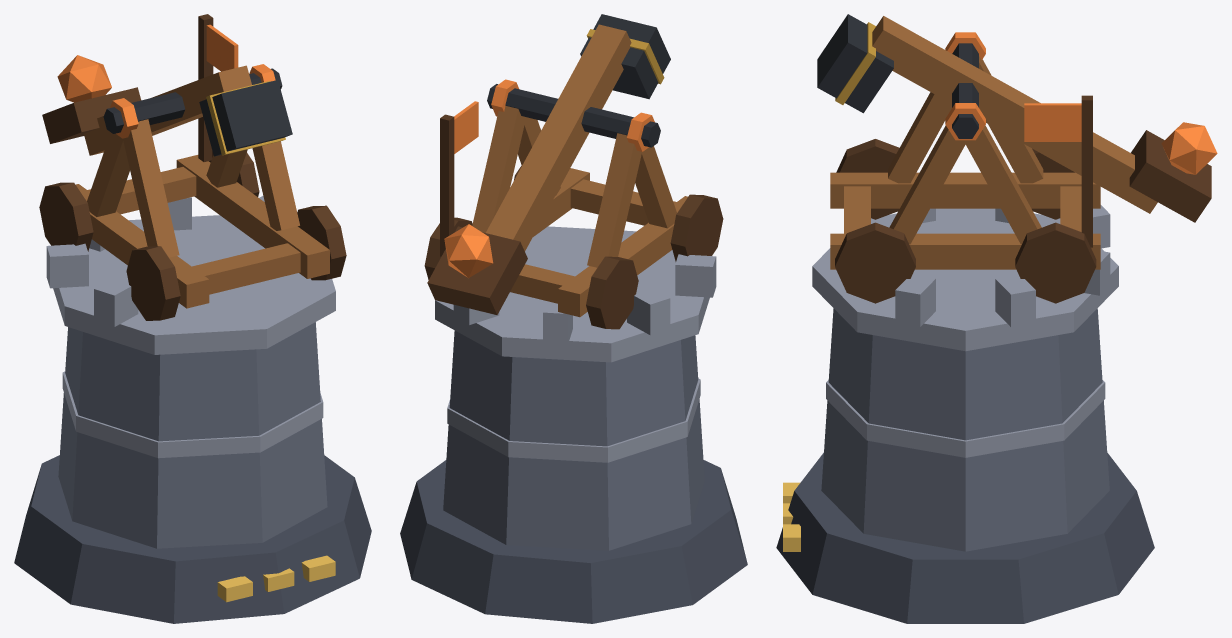
Rendered from catapult-2.glb.
3 views of the same model, side by side, from view 1: azimuth 30°, elevation 25°; view 2: azimuth 150°, elevation 25°; view 3: azimuth 270°, elevation 25° (orthographic). The views are drawn at different scales.
Visible parts, largest first — view 1: catapult-2; view 2: catapult-2; view 3: catapult-2.
Part boxes in pixels (x1,y1,x2,y2): catapult-2: [14, 14, 371, 623]; catapult-2: [400, 14, 747, 623]; catapult-2: [776, 14, 1217, 623].
Bounding box in the file's own units: 0.7989 × 1.29 × 0.9793.
Materials: 1 (1 with a texture image).
